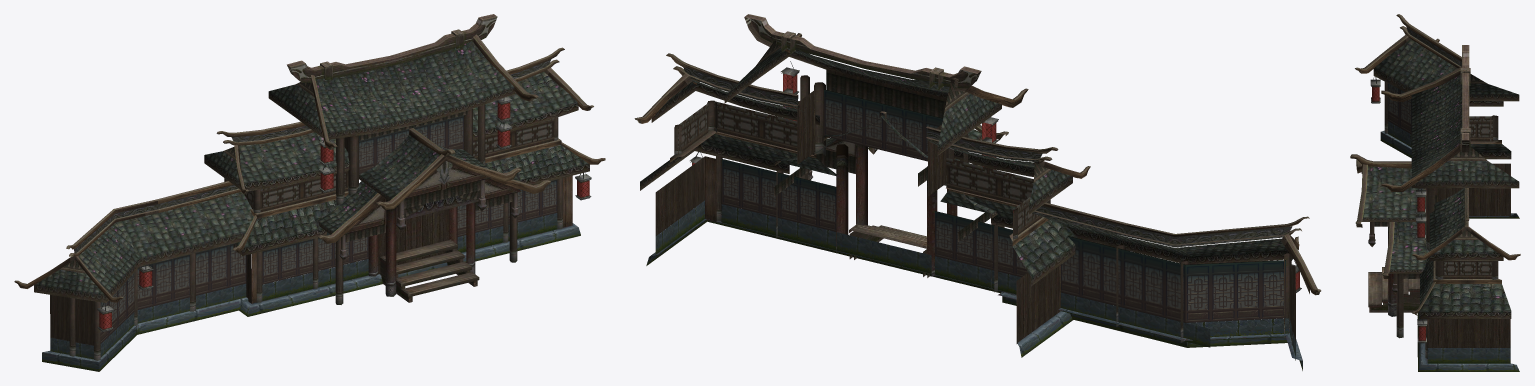
Rendered from SC001Jjianzhu_44.FBX.
3 views of the same model, side by side, from view 1: azimuth 30°, elevation 25°; view 2: azimuth 150°, elevation 25°; view 3: azimuth 270°, elevation 25° (orthographic). The views are drawn at different scales.
Parts seen in each view (by area): view 1: SC001Jjianzhu_44; view 2: SC001Jjianzhu_44; view 3: SC001Jjianzhu_44.
Part boxes in pixels (<box>): SC001Jjianzhu_44: <box>14,14,605,371</box>; SC001Jjianzhu_44: <box>634,14,1321,370</box>; SC001Jjianzhu_44: <box>1350,14,1520,371</box>.
Bounding box in the file's own units: 148 × 52.93 × 40.04.
